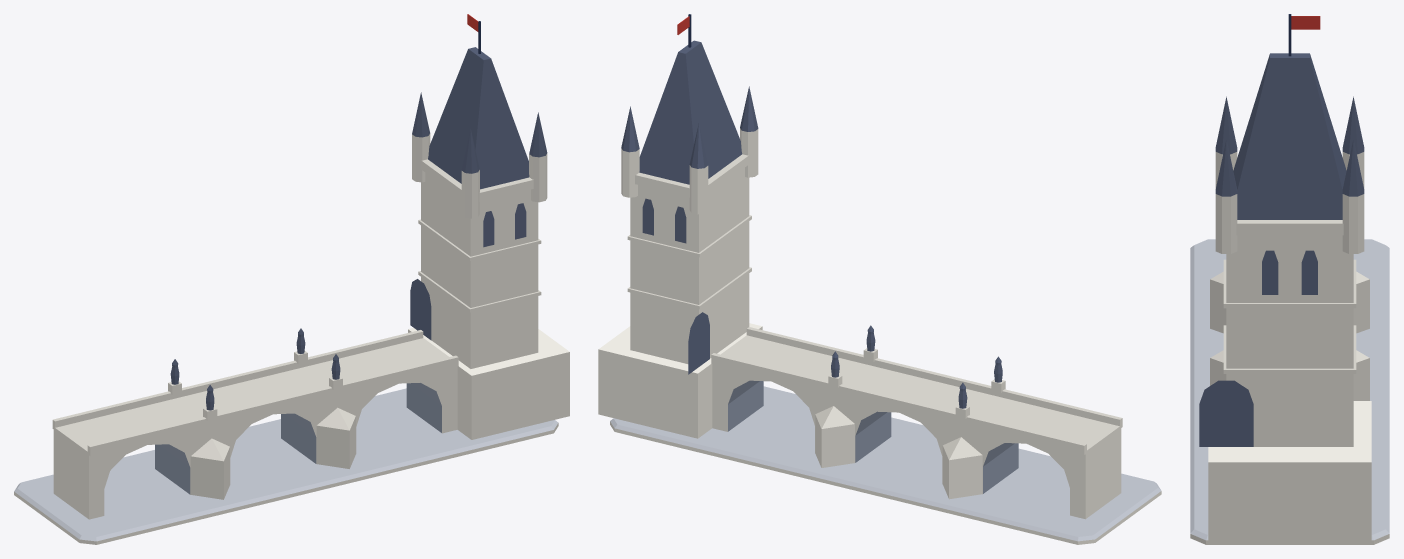
The model's file is prague.glb.
3 views of the same model, side by side, from view 1: azimuth 30°, elevation 25°; view 2: azimuth 150°, elevation 25°; view 3: azimuth 270°, elevation 25° (orthographic). The views are drawn at different scales.
Visible parts, largest first — view 1: model; view 2: model; view 3: model.
Part boxes in pixels (left/top/right/bottom): model: left=14, top=14, right=569, bottom=544; model: left=598, top=14, right=1161, bottom=544; model: left=1190, top=14, right=1389, bottom=544.
Bounding box in the file's own units: 80 × 61 × 22.
